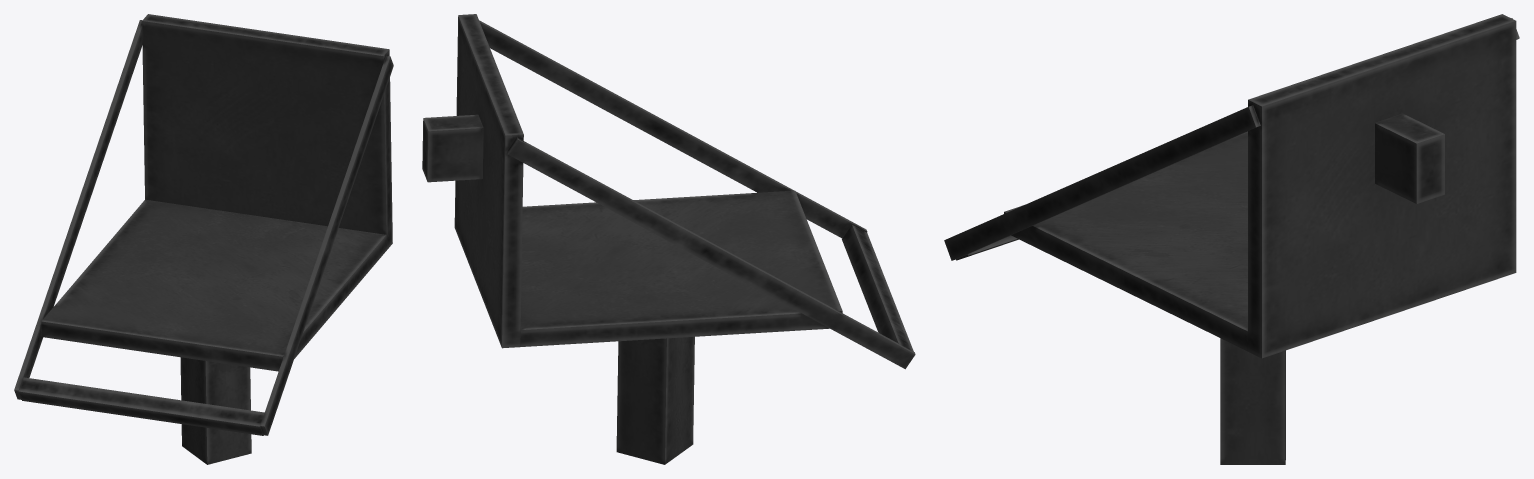
The model's file is Table tray holder.fbx.
3 views of the same model, side by side, from view 1: azimuth 30°, elevation 25°; view 2: azimuth 150°, elevation 25°; view 3: azimuth 270°, elevation 25° (orthographic). The views are drawn at different scales.
Parts seen in each view (by area): view 1: table tray holder; view 2: table tray holder; view 3: table tray holder.
Boxes of the visible parts, box(x1,y1,x2,y2) form: table tray holder: box(14, 14, 393, 464); table tray holder: box(422, 14, 915, 464); table tray holder: box(944, 14, 1519, 464).
Size of the model in its own units: 27.09 by 23.02 by 26.35.
1 material, 1 textured.
